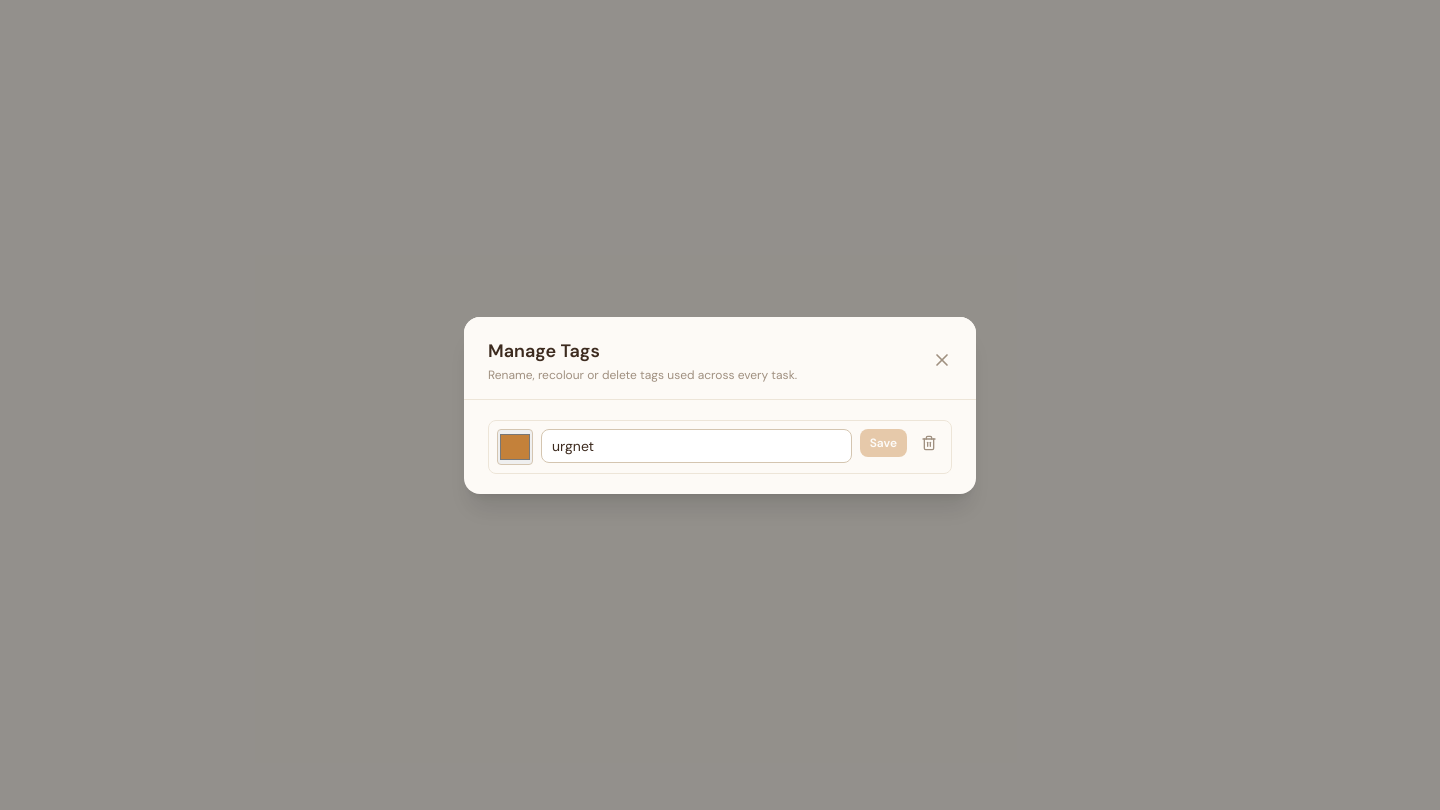
Scenario: TagManagerModal 改名 / 换色 › says so when the write is silently dropped, and does not ask the page to reload
Replace the text in the field named "Name for urgnet" with "urgent" at (696, 446), box [541,428,852,462]
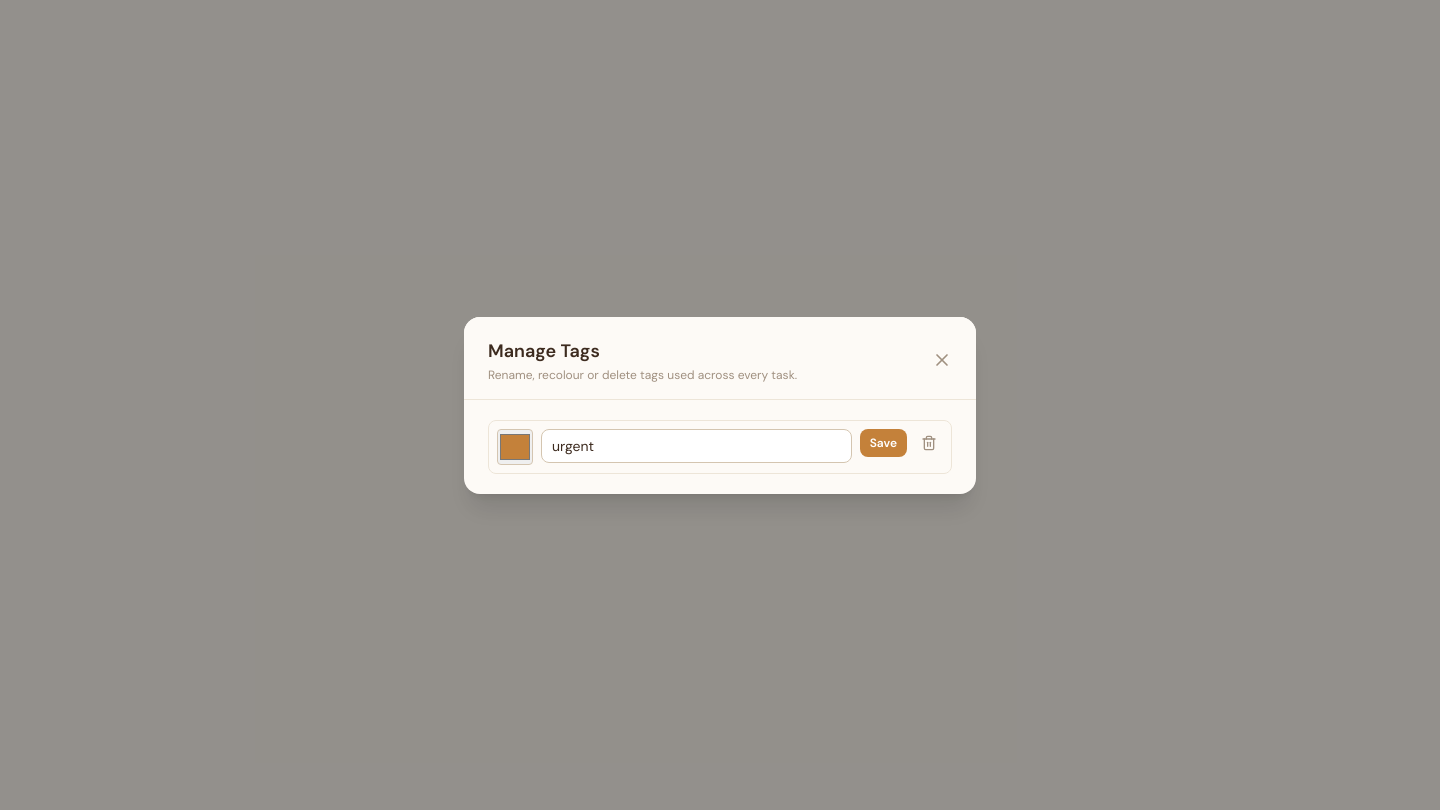
Click the button "Save" at (883, 442), box [860,428,907,456]
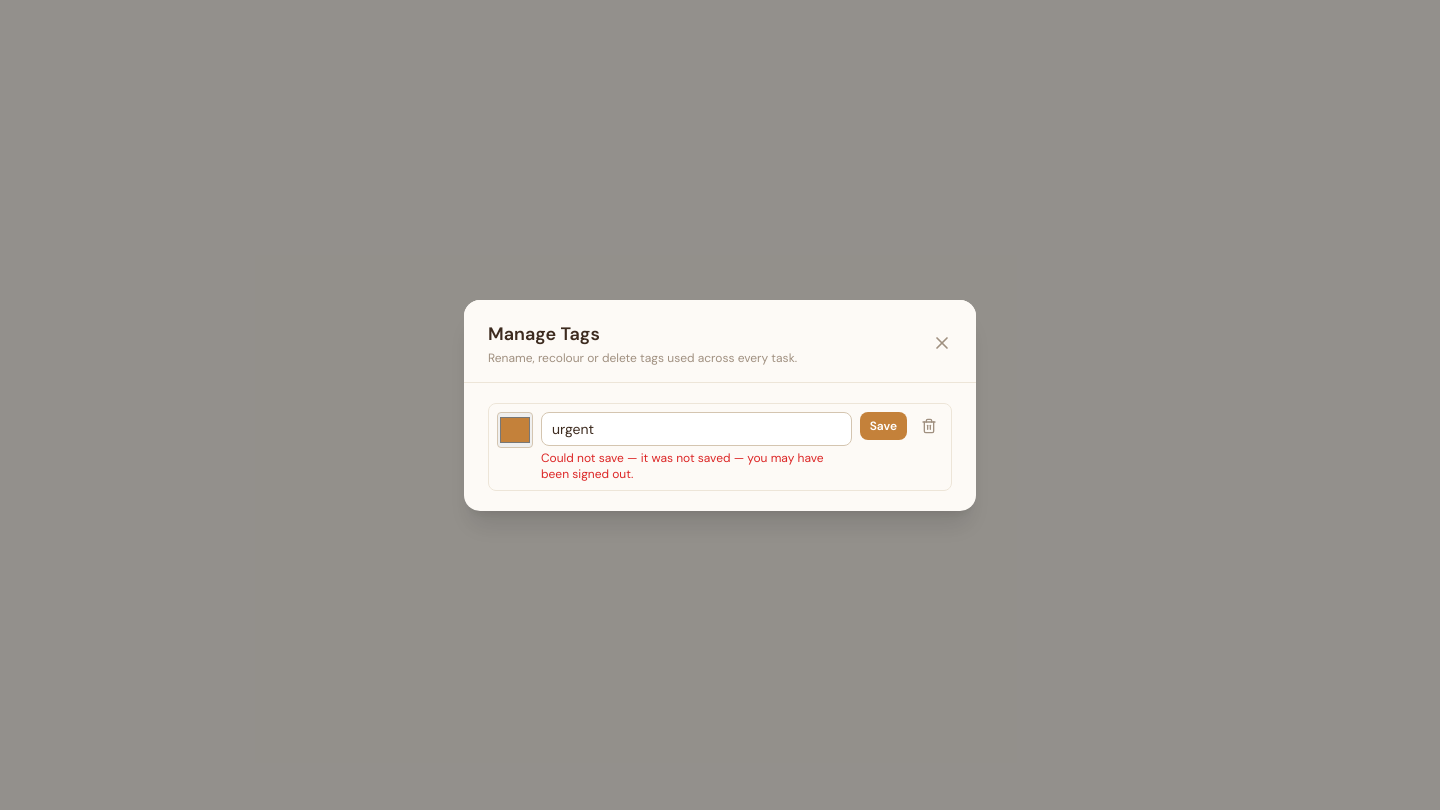
Expected: the text "you may have been signed out" is shown, [541,450,824,482]
